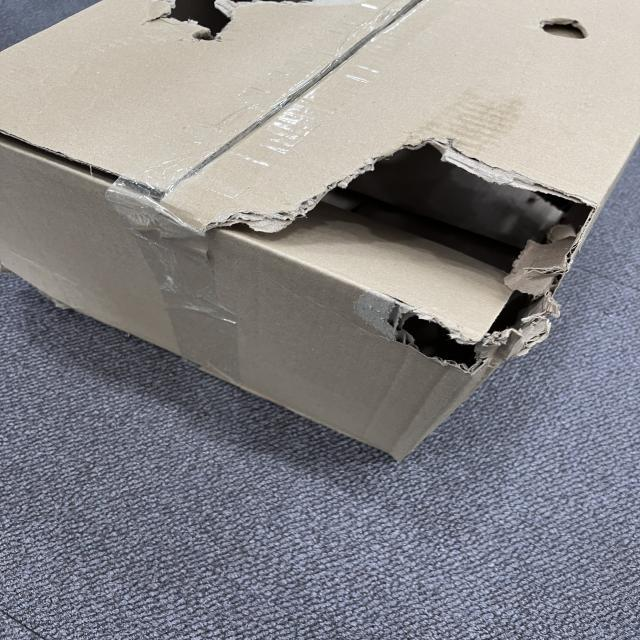hole: (236, 143, 582, 297), (390, 292, 546, 360), (151, 0, 255, 43), (528, 10, 594, 48)
